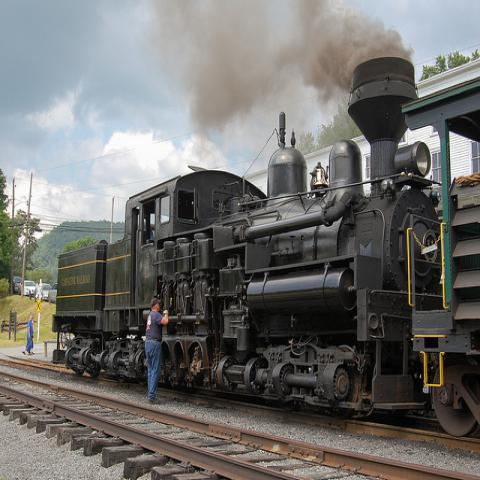car: (18, 280, 37, 296), (42, 282, 51, 299), (50, 283, 57, 304), (14, 276, 21, 293)
